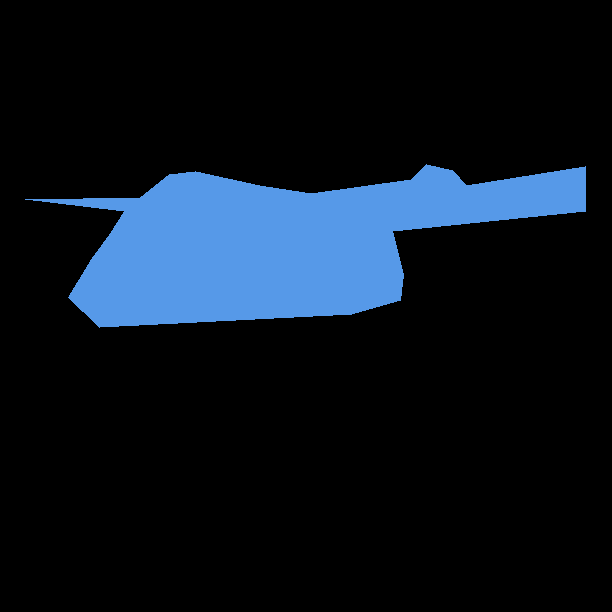Airplane: (25, 164, 585, 327)
